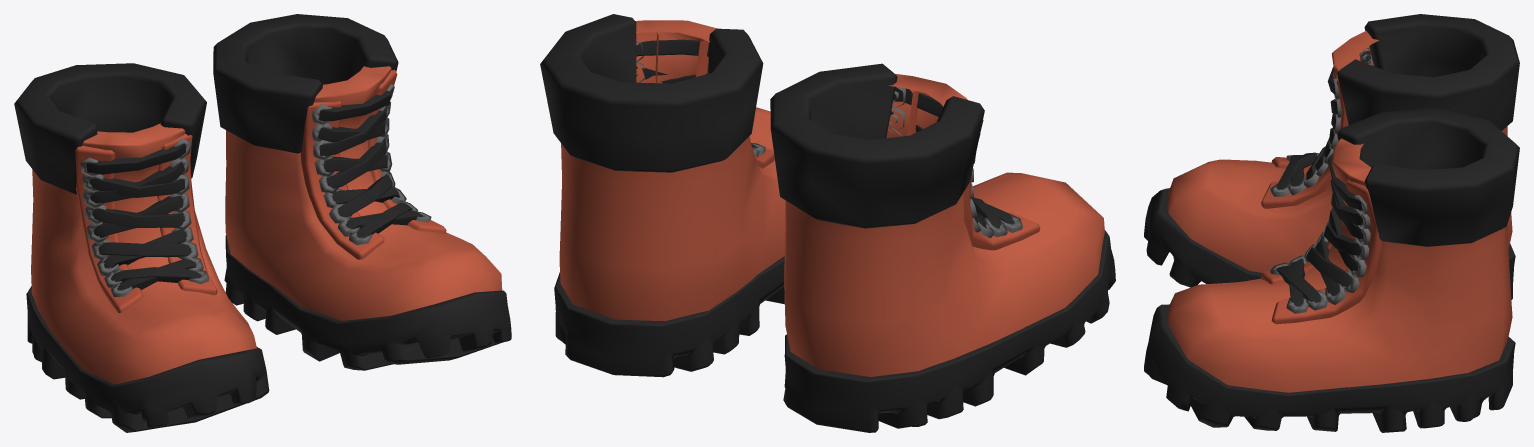
The model's file is Shoe_Boot_002.glb.
3 views of the same model, side by side, from view 1: azimuth 30°, elevation 25°; view 2: azimuth 150°, elevation 25°; view 3: azimuth 270°, elevation 25° (orthographic). The views are drawn at different scales.
Parts seen in each view (by area): view 1: Shoe_Boot_002; view 2: Shoe_Boot_002; view 3: Shoe_Boot_002.
Boxes of the visible parts, bbox=[...] form: Shoe_Boot_002: bbox=[14, 14, 511, 432]; Shoe_Boot_002: bbox=[540, 14, 1115, 432]; Shoe_Boot_002: bbox=[1144, 14, 1519, 432].
Bounding box in the file's own units: 0.4305 × 0.2624 × 0.355.
1 material, 1 textured.
